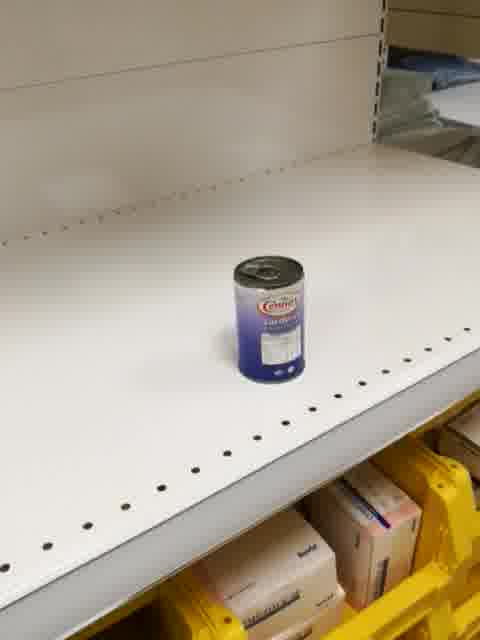sardine: (232, 253, 307, 385)
